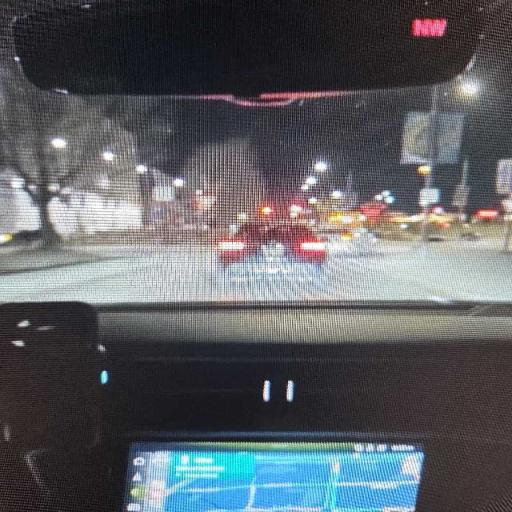car: (0, 0, 511, 511), (217, 223, 327, 264)
lane: (0, 244, 511, 303)
